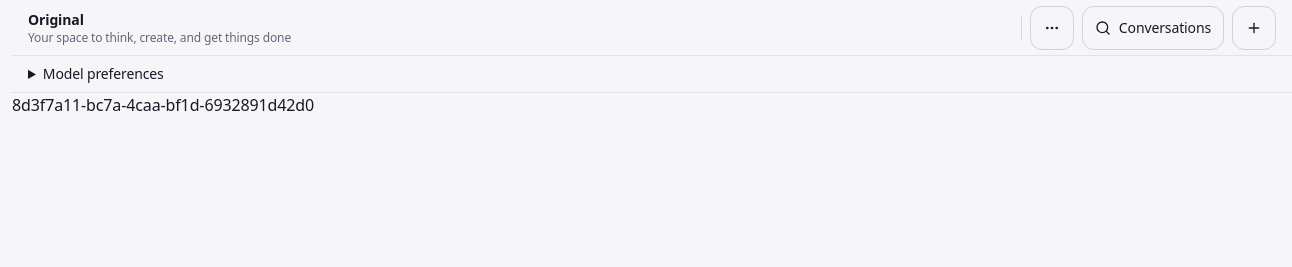
CopilotKit consumer session adapter › keeps delete confirmation open when canonical deletion is rejected
What coordinates should you click on to do the following:
click the button named "Conversation options"
I would click on:
 (1052, 28)
Its box is [1030,6,1074,50].
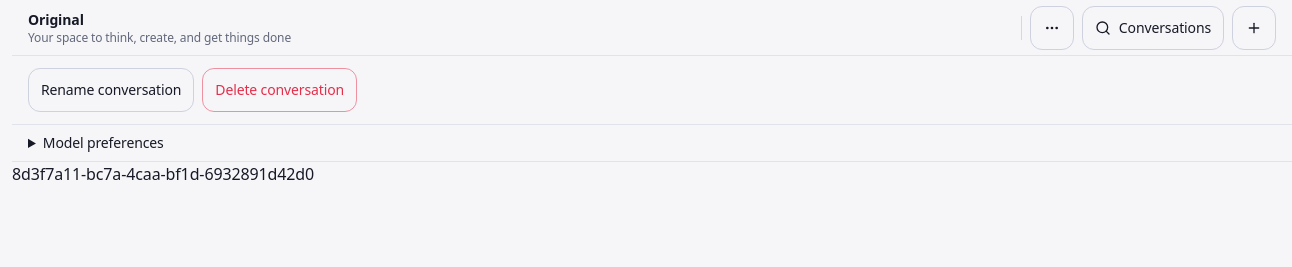
What coordinates should you click on to do the following:
click the button "Delete conversation"
I would click on:
 (280, 90)
Its box is [202,68,357,112].
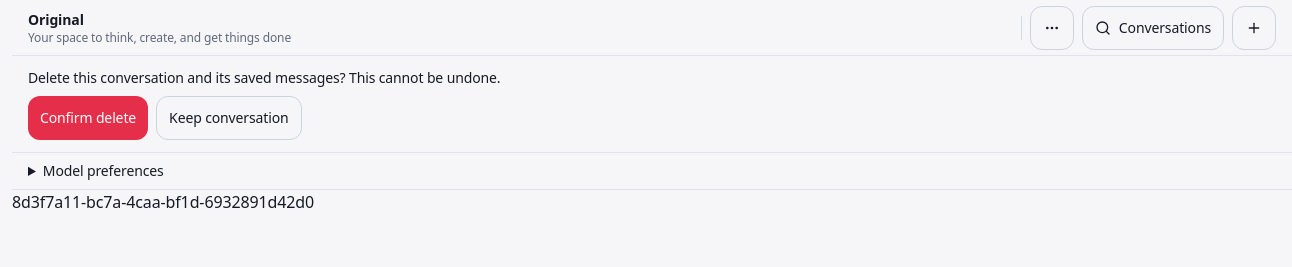
What coordinates should you click on to do the following:
click the button "Confirm delete"
I would click on:
 (88, 118)
Its box is [28,96,148,140].
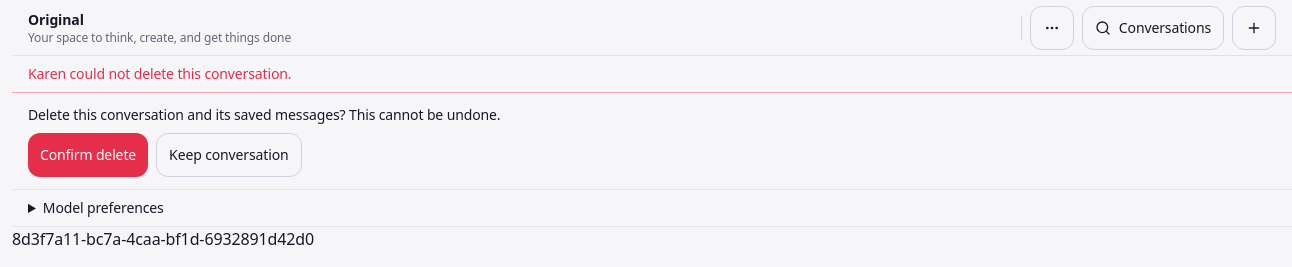
Expected: the text with test id "owned-copilot-chat" reads "8d3f7a11-bc7a-4caa-bf1d-6932891d42d0", [12,228,314,250]
Result: the element named "Confirm conversation deletion" is shown at [28,105,500,177]
Result: the message shows "could not delete" at [28,64,292,83]
